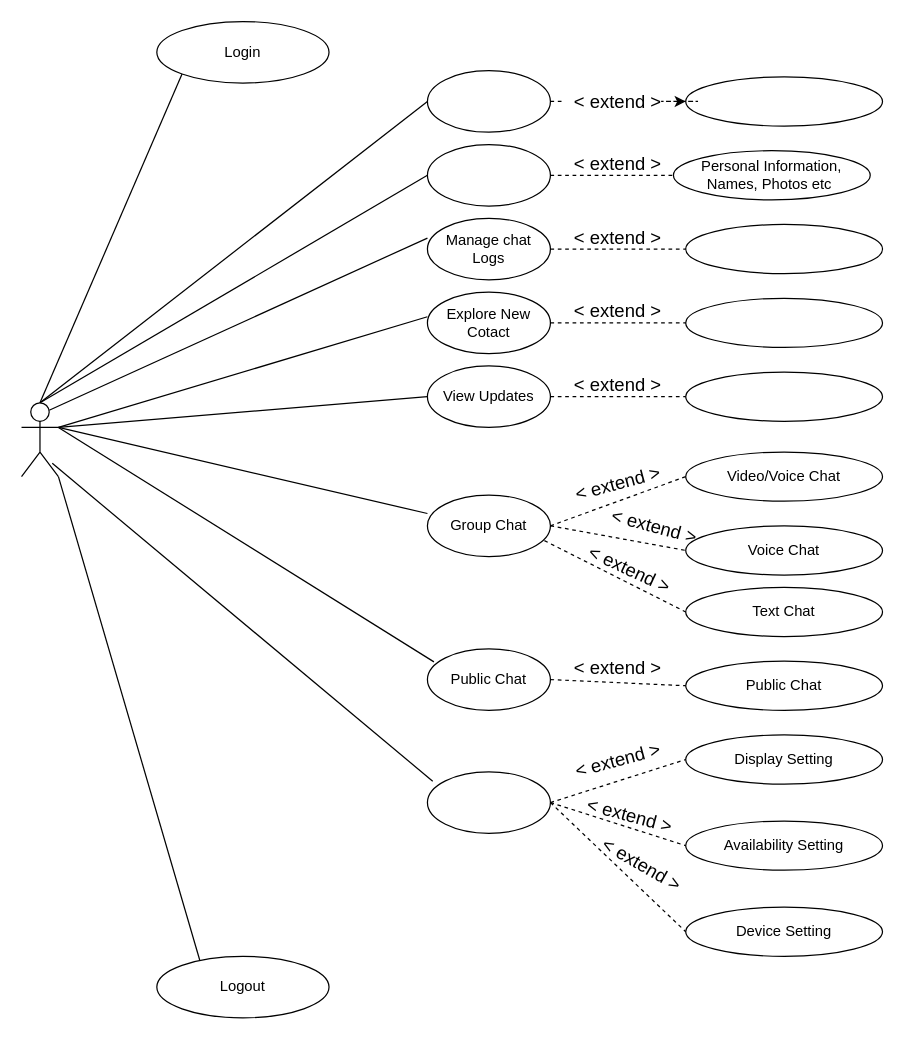
The diagram is 904 pixels wide and 1039 high, and some of its shapes have lost their labels. The shapes that lost their labels are listed below. From the top down, each one's centre as x and y in pixels, then its label:
point 488,100: Manage Contacts
point 783,101: Search/Add/Edit/Remove Contact
point 488,174: Profile
point 783,248: View /Remove Older Conversations
point 783,322: Search /Browse New Groups
point 783,396: View Notifications and Updates
point 39,439: User
point 488,802: Setting
